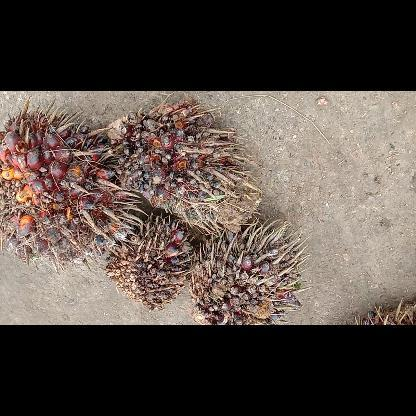TBS abnormal: (106, 102, 256, 228), (190, 218, 302, 324), (105, 214, 193, 312)
TBS masak: (0, 102, 139, 266)
